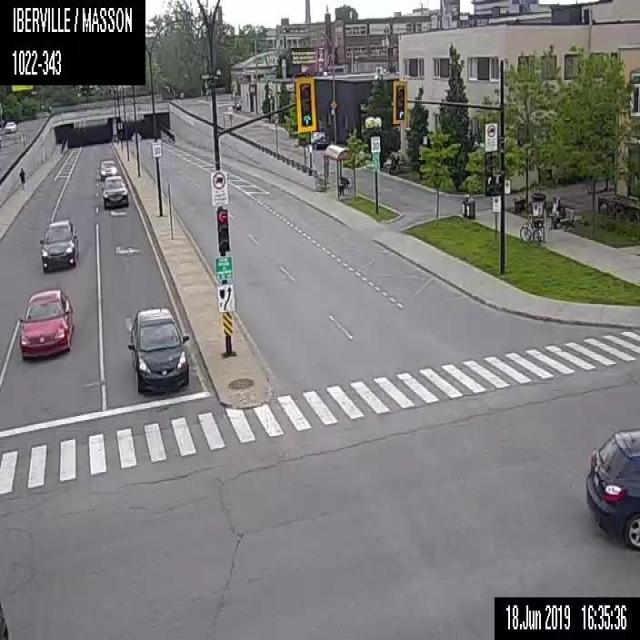pedestrian: (550, 195, 566, 229), (17, 165, 25, 191)
vehicle: (585, 428, 639, 551), (126, 304, 190, 395), (18, 285, 73, 360), (38, 217, 77, 272), (101, 175, 128, 209), (98, 159, 116, 180), (310, 130, 327, 150), (3, 120, 16, 133)
